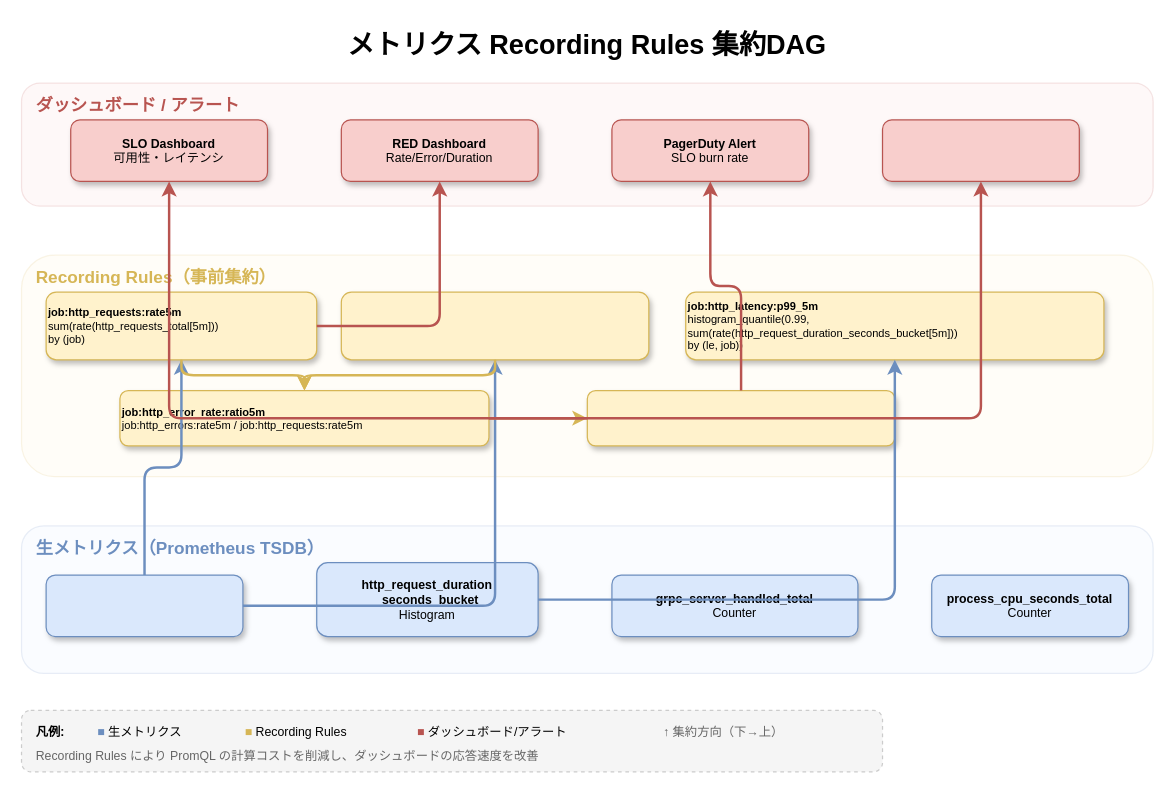
Image size: 1175x793. Some labels were removed from this diagram. The centre of each missing label's shape, as x and y in pixels:
http_requests_total Counter: point 145,607
job:http_errors:rate5m sum(rate(http_requests_total{code=~"5.."}[5m])) by (job): point 495,327
job:slo_burn_rate:1h error_rate / (1 - slo_target): point 741,419
Slack Alert エラー率しきい値: point 981,152
